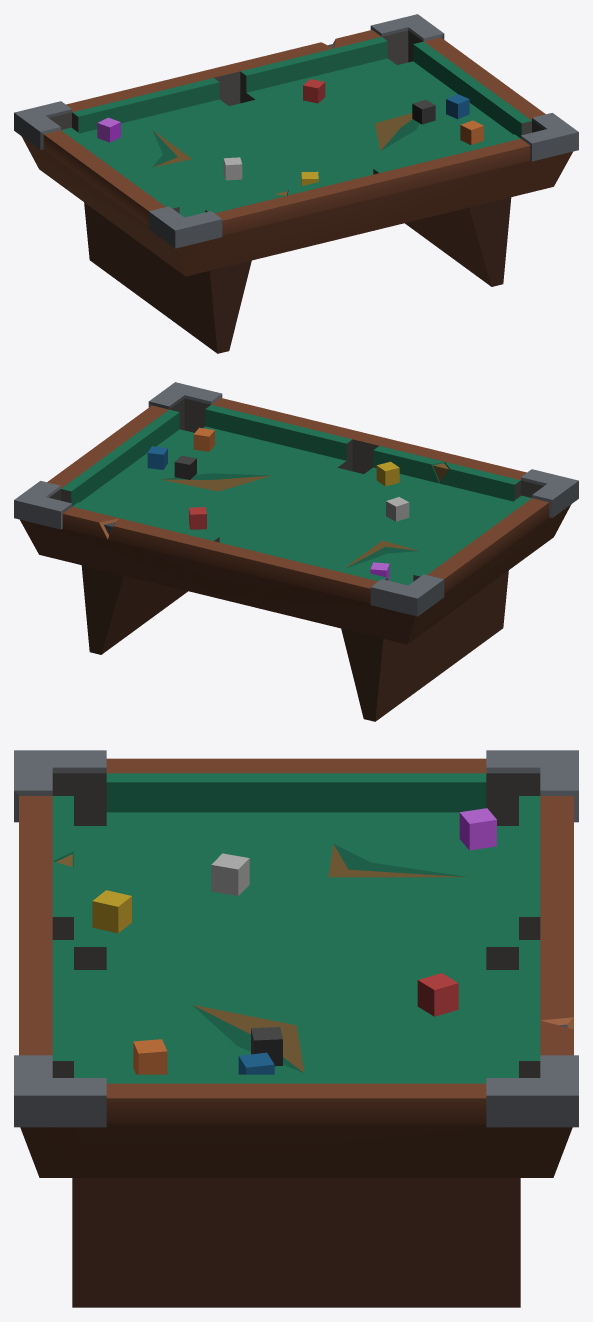
The model's file is AI_Prop_PoolTable_Damaged.fbx.
The picture shows the model from 3 angles, top to bottom: view 1: azimuth 30°, elevation 25°; view 2: azimuth 150°, elevation 25°; view 3: azimuth 270°, elevation 25°; orthographic projection. The views are drawn at different scales.
Parts seen in each view (by area): view 1: AI_Prop_PoolTable_Damaged; view 2: AI_Prop_PoolTable_Damaged; view 3: AI_Prop_PoolTable_Damaged.
Boxes of the visible parts, x1,y1,x2,y2 form: AI_Prop_PoolTable_Damaged: (14,14,578,353); AI_Prop_PoolTable_Damaged: (14,382,578,721); AI_Prop_PoolTable_Damaged: (14,750,578,1307).
Size of the model in its own units: 4.45 by 1.58 by 3.07.
